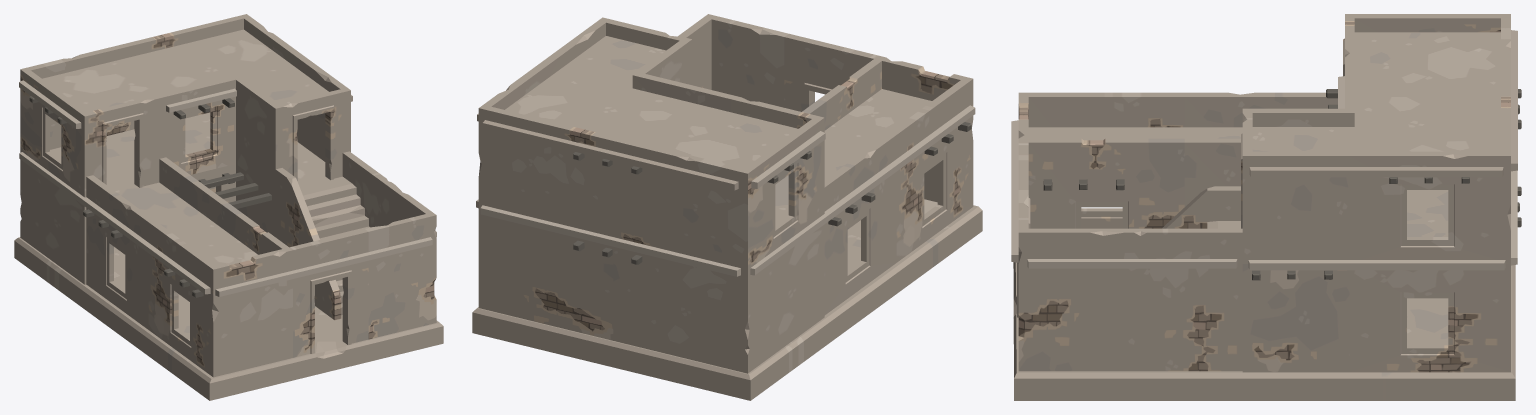
Rendered from SM_Bld_Village_House_01.fbx.
The picture shows the model from 3 angles, left to right: view 1: azimuth 30°, elevation 25°; view 2: azimuth 150°, elevation 25°; view 3: azimuth 270°, elevation 25°; orthographic projection. The views are drawn at different scales.
Visible parts, largest first — view 1: SM_Bld_Village_House_01; view 2: SM_Bld_Village_House_01; view 3: SM_Bld_Village_House_01.
Boxes of the visible parts, x1,y1,x2,y2 form: SM_Bld_Village_House_01: (14, 14, 443, 400); SM_Bld_Village_House_01: (472, 14, 982, 400); SM_Bld_Village_House_01: (1011, 14, 1521, 400).
Size of the model in its own units: 896 by 674 by 1284.
